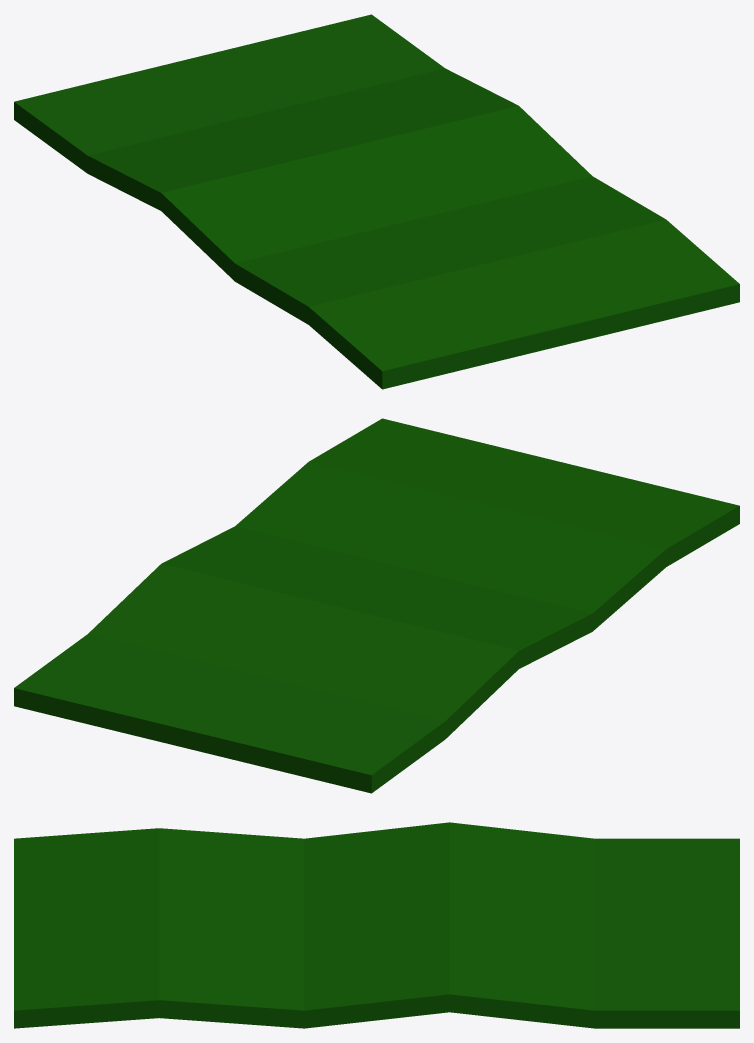
Rendered from alga_nori.fbx.
3 views of the same model, one above another, from view 1: azimuth 30°, elevation 25°; view 2: azimuth 150°, elevation 25°; view 3: azimuth 270°, elevation 25° (orthographic).
Visible parts, largest first — view 1: Cube; view 2: Cube; view 3: Cube.
Boxes of the visible parts, bbox=[...] form: Cube: bbox=[14, 14, 739, 389]; Cube: bbox=[14, 418, 739, 793]; Cube: bbox=[14, 822, 739, 1028].
Bounding box in the file's own units: 69.23 × 6.42 × 123.
